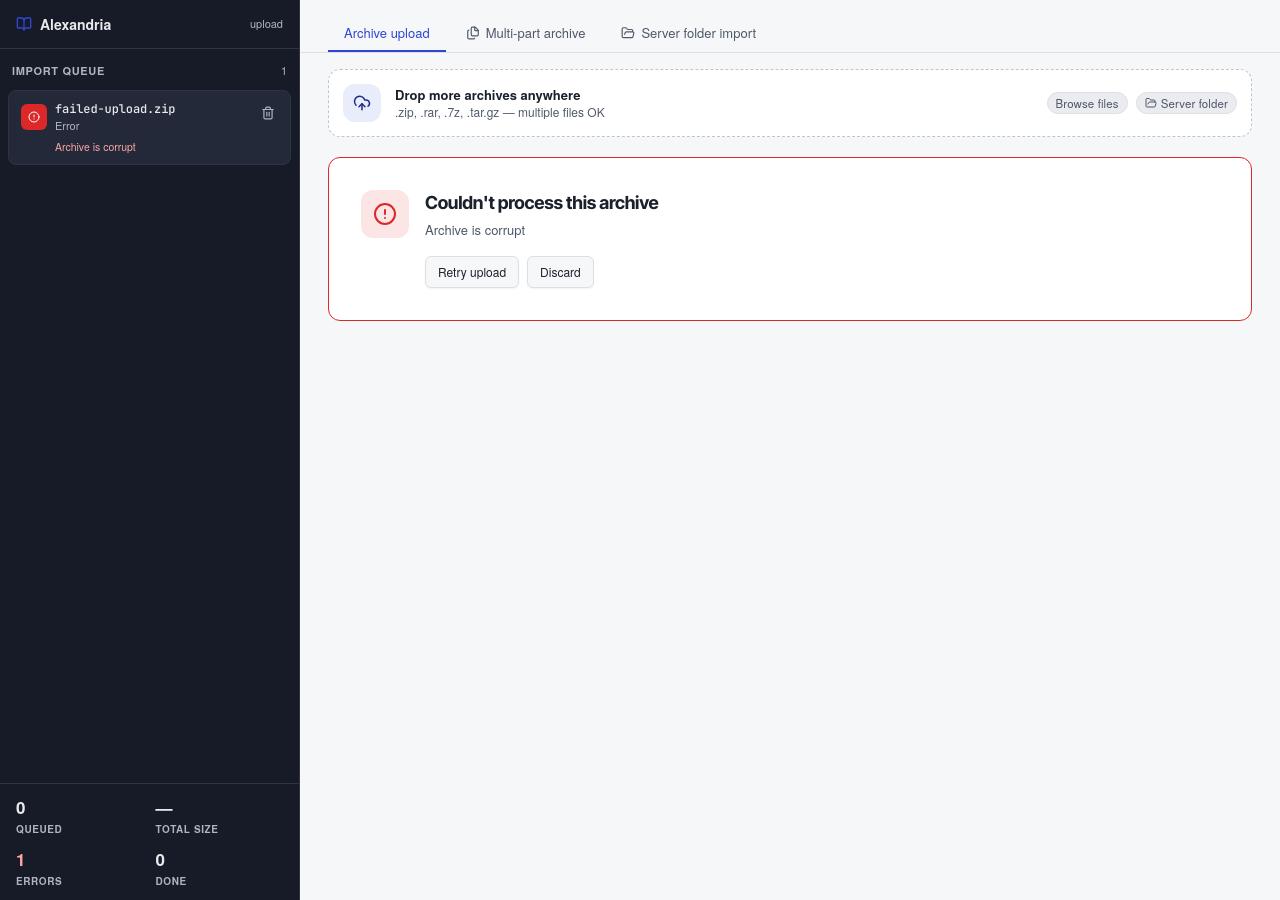
Scenario: UploadPage › deletes a failed upload and removes it from the queue
The image size is (1280, 900).
Expected: the text "failed-upload.zip" is shown, 55,101 -> 175,118
Click the button "Discard" at (560, 272), box 527,256 -> 594,288
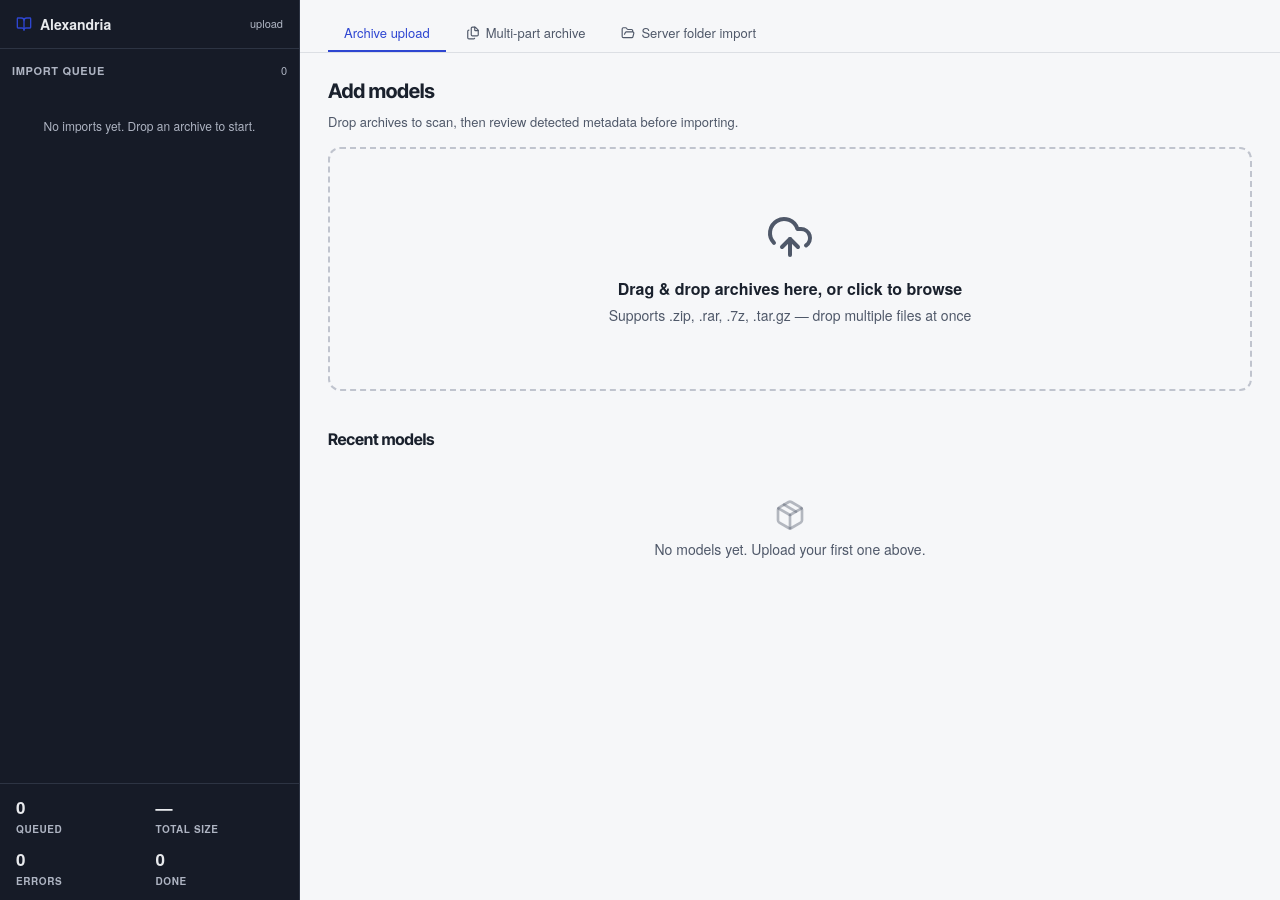
Now the button "failed-upload.zip" is gone
Now the text "No imports yet. Drop an archive to start." is shown, box 44,117 -> 255,134
